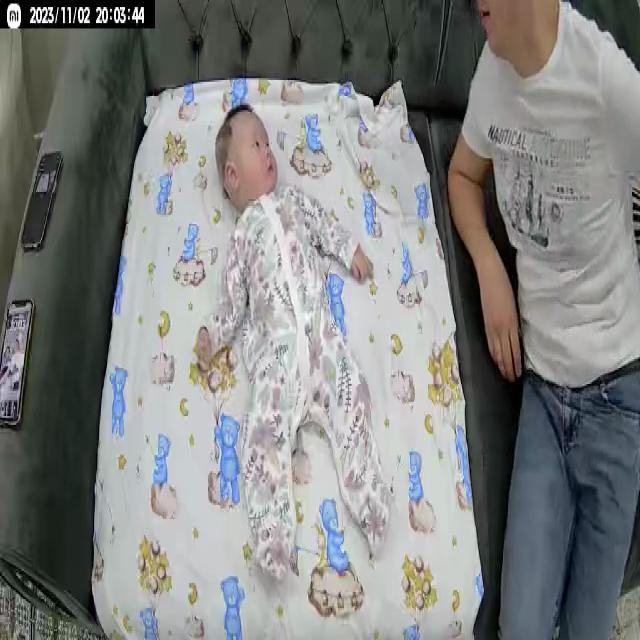baby: (188, 99, 396, 588)
